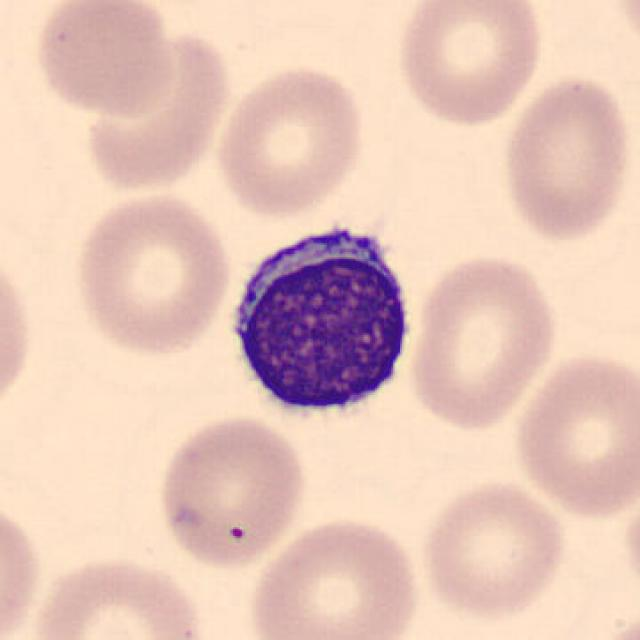Lymphocyte: (217, 210, 423, 434)
RBC: (404, 248, 564, 434), (70, 187, 236, 361), (74, 23, 234, 196), (151, 411, 311, 571), (212, 60, 370, 220), (496, 71, 635, 245), (243, 513, 425, 640), (508, 347, 638, 522), (416, 476, 569, 624), (392, 0, 547, 130), (30, 0, 180, 122), (27, 552, 212, 640), (0, 239, 37, 426), (0, 492, 44, 640)
